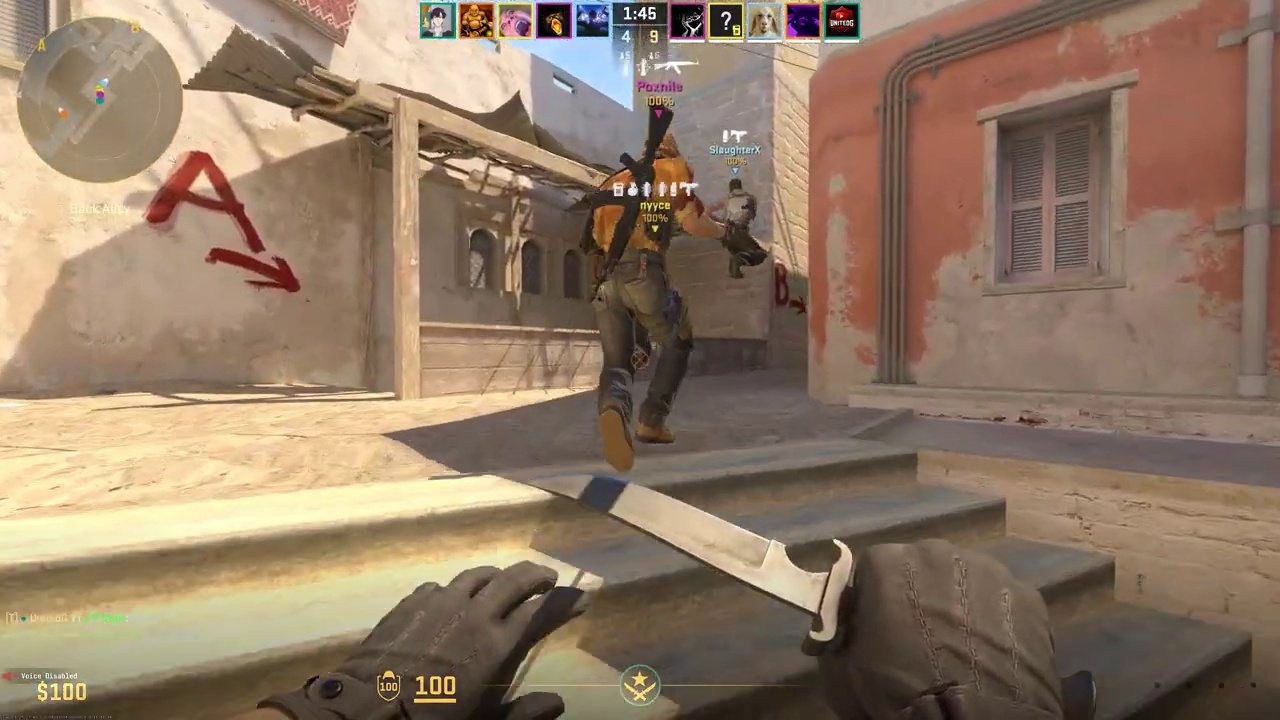Terrorist: (595, 134, 700, 467), (719, 179, 764, 279)
